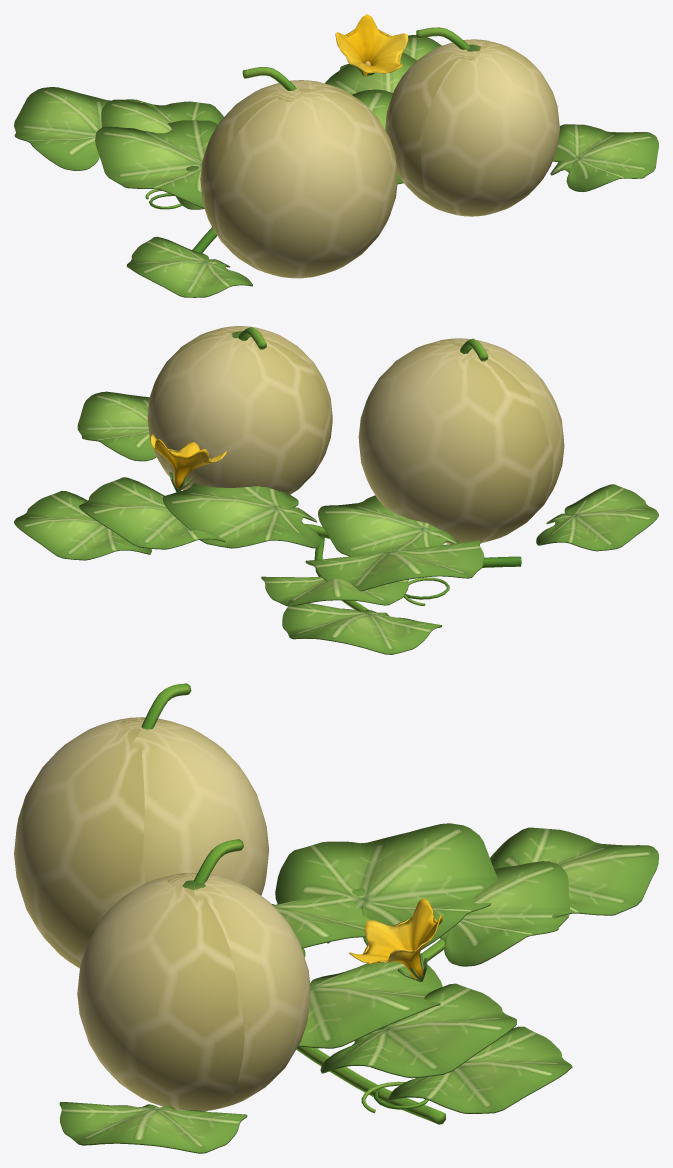
The model's file is NP_Melon_Ready.fbx.
3 views of the same model, one above another, from view 1: azimuth 30°, elevation 25°; view 2: azimuth 150°, elevation 25°; view 3: azimuth 270°, elevation 25° (orthographic). The views are drawn at different scales.
Visible parts, largest first — view 1: NP_Melon_Ready; view 2: NP_Melon_Ready; view 3: NP_Melon_Ready.
Boxes of the visible parts, x1,y1,x2,y2 form: NP_Melon_Ready: (14, 14, 658, 297); NP_Melon_Ready: (14, 326, 658, 654); NP_Melon_Ready: (14, 683, 658, 1153).
Bounding box in the file's own units: 110 × 39.84 × 85.94.
